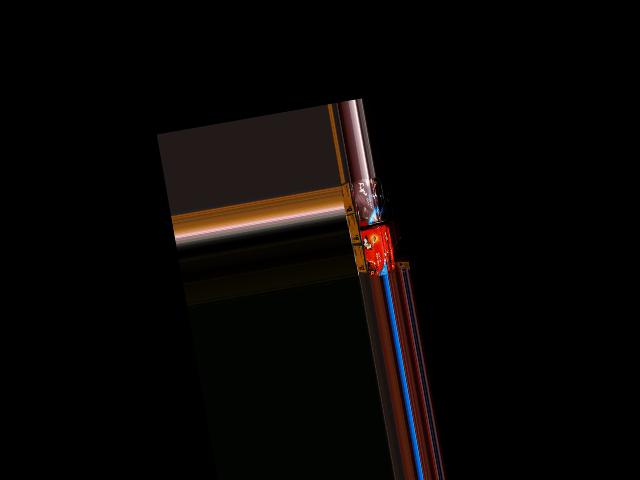chocolate: (346, 176, 379, 223)
